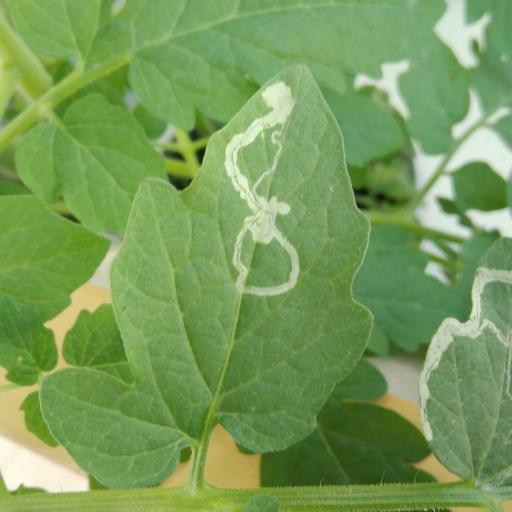disease_tomato: (40, 60, 374, 488), (418, 225, 510, 479)
